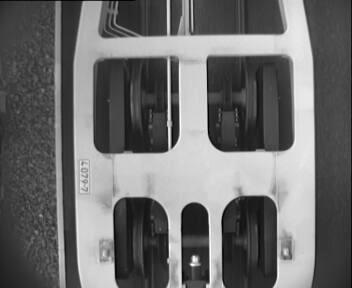twist_lock_2: (106, 188, 283, 288)
